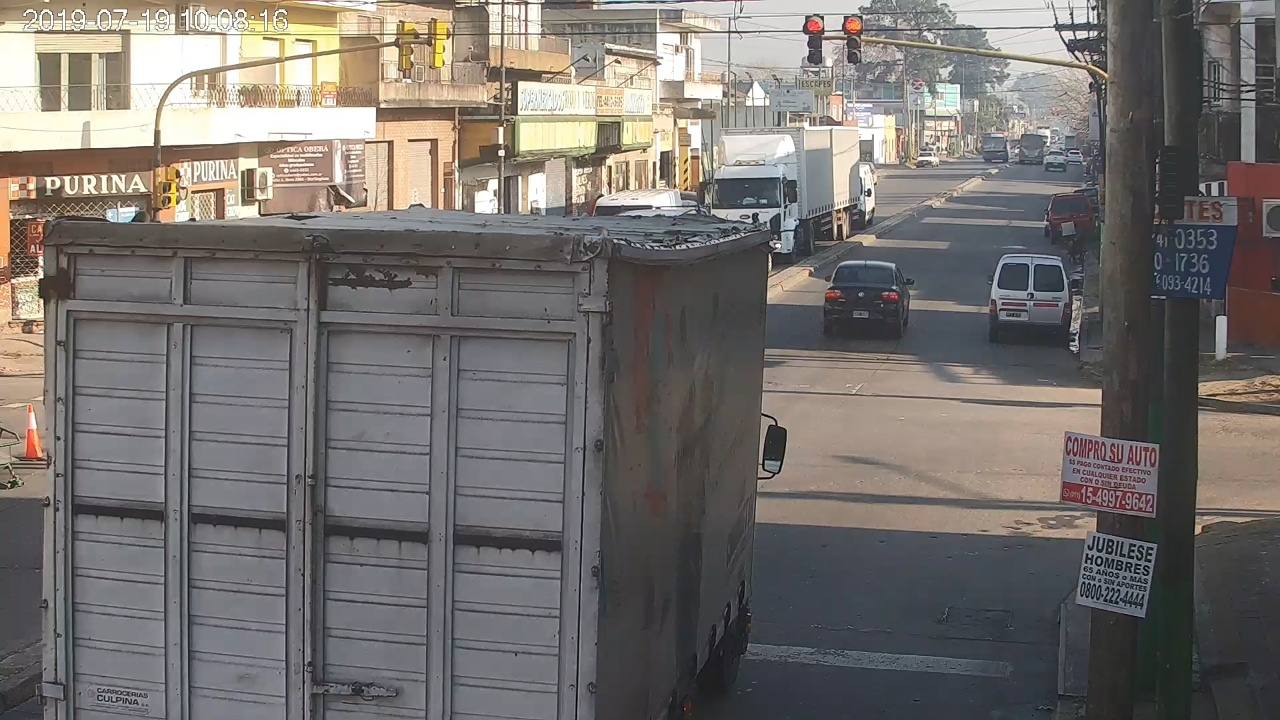car: (987, 255, 1078, 343), (823, 261, 914, 337)
traffic light: (807, 16, 823, 64), (847, 15, 862, 62)
truck: (35, 215, 786, 720)
